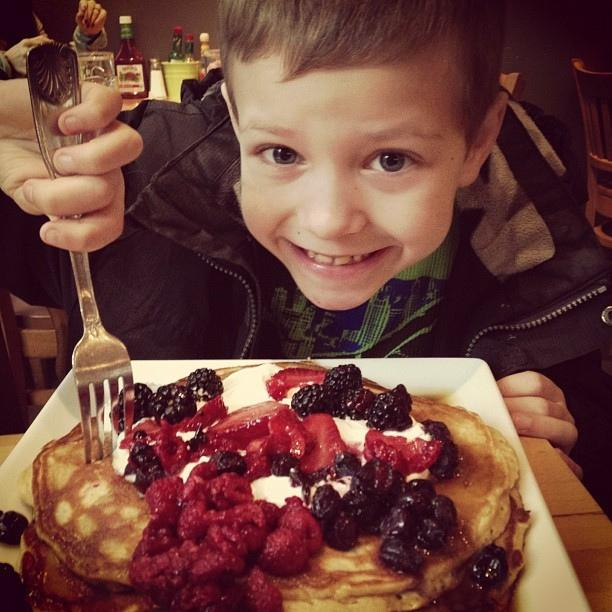blackberry: (350, 456, 410, 536), (365, 384, 413, 432), (108, 383, 152, 435), (148, 383, 197, 425), (377, 538, 427, 576), (324, 388, 376, 420), (324, 364, 362, 407), (472, 544, 508, 588), (324, 510, 360, 552), (291, 384, 331, 418), (379, 507, 417, 542), (132, 456, 166, 495), (186, 368, 224, 402), (311, 484, 344, 520), (428, 446, 460, 480), (209, 450, 246, 476), (414, 518, 444, 550), (1, 511, 28, 546)
raspberry: (128, 546, 193, 594), (250, 528, 307, 576), (276, 506, 324, 560), (221, 502, 269, 550), (145, 476, 184, 532), (176, 499, 226, 541), (148, 383, 196, 425), (204, 472, 254, 510), (191, 552, 245, 586), (132, 526, 182, 561), (120, 384, 154, 433), (240, 564, 283, 602), (290, 384, 332, 420), (184, 367, 224, 403), (152, 434, 188, 474), (328, 390, 376, 420), (206, 523, 248, 556), (181, 476, 212, 508), (179, 540, 200, 564)
strawberry: (206, 401, 288, 449), (362, 430, 444, 476), (300, 413, 357, 474), (266, 410, 314, 460), (266, 368, 327, 402), (184, 396, 228, 432), (241, 451, 272, 482)
